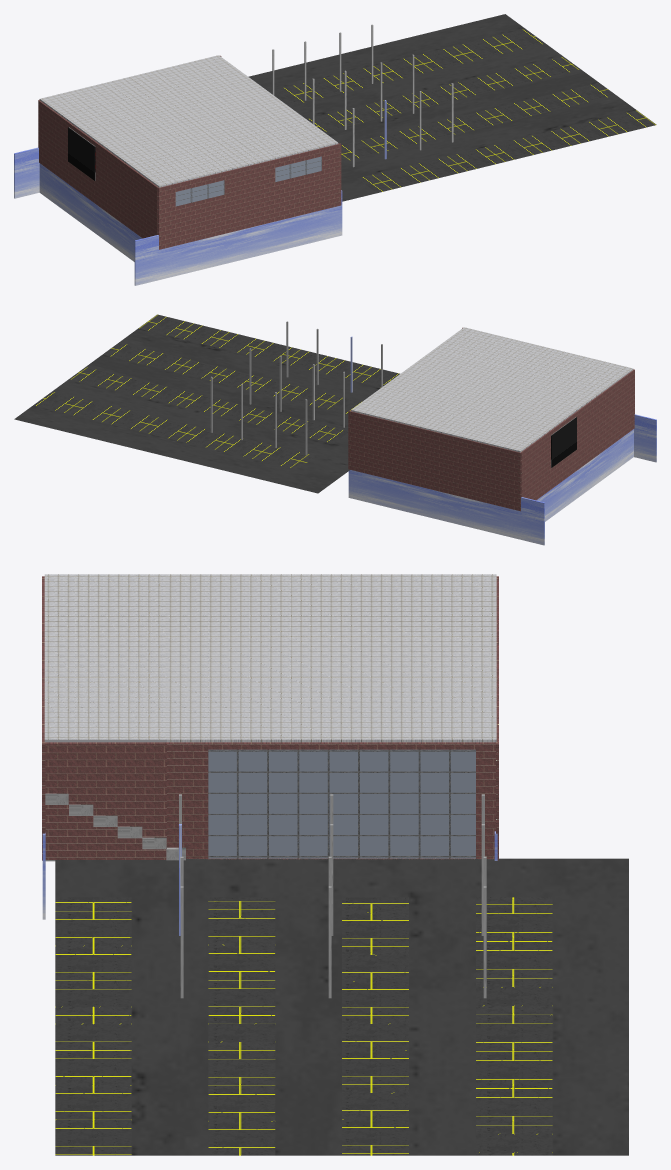
File: natatorium.glb
The picture shows the model from 3 angles, top to bottom: view 1: azimuth 30°, elevation 25°; view 2: azimuth 150°, elevation 25°; view 3: azimuth 270°, elevation 25°; orthographic projection. The views are drawn at different scales.
Visible parts, largest first — view 1: Cube.007, Cube.014, Cube.084, Cube.017, Cube.020, Cube.002, Cube.019, Cube.018, Cube.016, Cube.086, Cube.085; view 2: Cube.014, Cube.007, Cube.084, Cube.003, Cube.018, Cube.002, Cube.019, Cube.020, Cube.016; view 3: Cube.014, Cube.007, Cube.084, Cube.013, Cube.004, Cube.009, Cube.017, Cube.003.
Boxes of the visible parts, box(x1,y1,x2,y2) form: Cube.007: box(39, 55, 338, 187); Cube.014: box(248, 14, 636, 201); Cube.084: box(269, 29, 656, 192); Cube.017: box(158, 143, 341, 249); Cube.020: box(134, 190, 342, 285); Cube.002: box(38, 100, 158, 238); Cube.019: box(39, 163, 142, 261); Cube.018: box(14, 147, 39, 198); Cube.016: box(68, 127, 95, 180); Cube.086: box(175, 180, 224, 206); Cube.085: box(275, 156, 321, 182); Cube.014: box(14, 328, 380, 493); Cube.007: box(351, 327, 633, 452); Cube.084: box(33, 314, 399, 469); Cube.003: box(348, 410, 521, 511); Cube.018: box(348, 470, 544, 545); Cube.002: box(521, 370, 634, 500); Cube.019: box(536, 429, 633, 521); Cube.020: box(634, 414, 656, 462); Cube.016: box(551, 417, 576, 467); Cube.014: box(55, 858, 628, 1155); Cube.007: box(44, 574, 496, 742); Cube.084: box(55, 897, 552, 1155); Cube.013: box(208, 749, 475, 858); Cube.004: box(45, 742, 495, 859); Cube.009: box(45, 793, 185, 860); Cube.017: box(42, 576, 45, 860); Cube.003: box(496, 576, 498, 860).
Size of the model in its own units: 752 by 137 by 384.
Materials: 42 (42 with a texture image).
